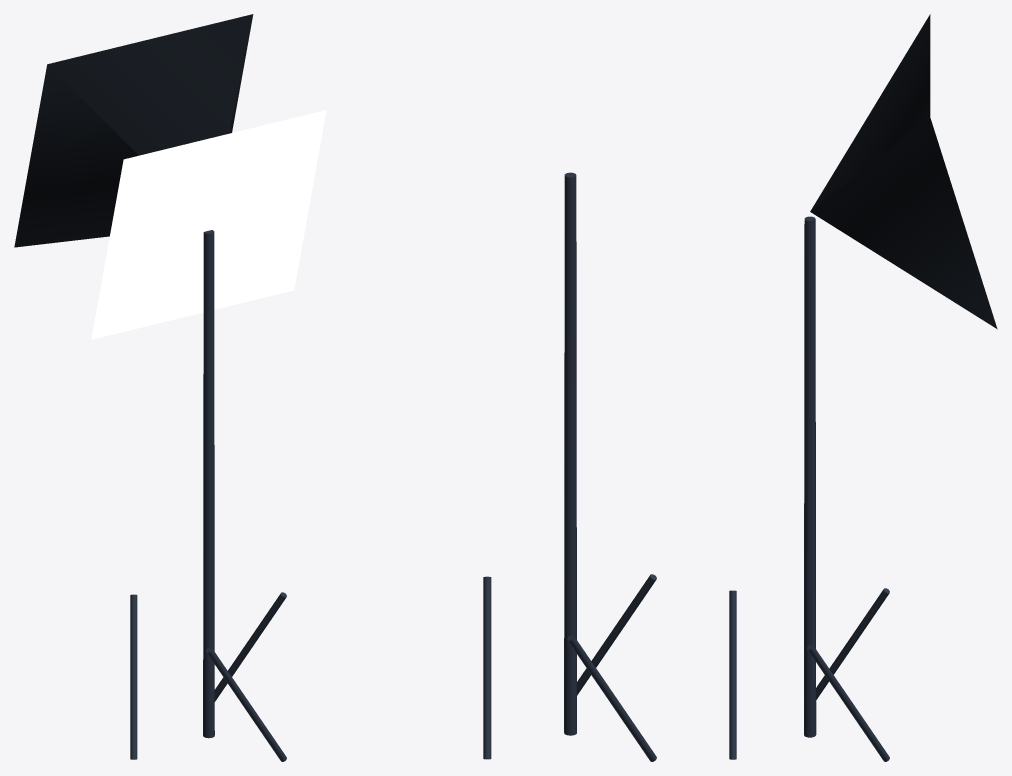
The model's file is studio_softbox.glb.
3 renders of one model, left to right at view 1: azimuth 30°, elevation 25°; view 2: azimuth 150°, elevation 25°; view 3: azimuth 270°, elevation 25°, orthographic. The views are drawn at different scales.
Parts seen in each view (by area): view 1: Softbox; view 2: Softbox; view 3: Softbox.
Part boxes in pixels (x1,y1,x2,y2): Softbox: (14, 14, 326, 761); Softbox: (483, 172, 656, 761); Softbox: (729, 14, 997, 761).
Size of the model in its own units: 0.792 by 2.42 by 0.8712.
